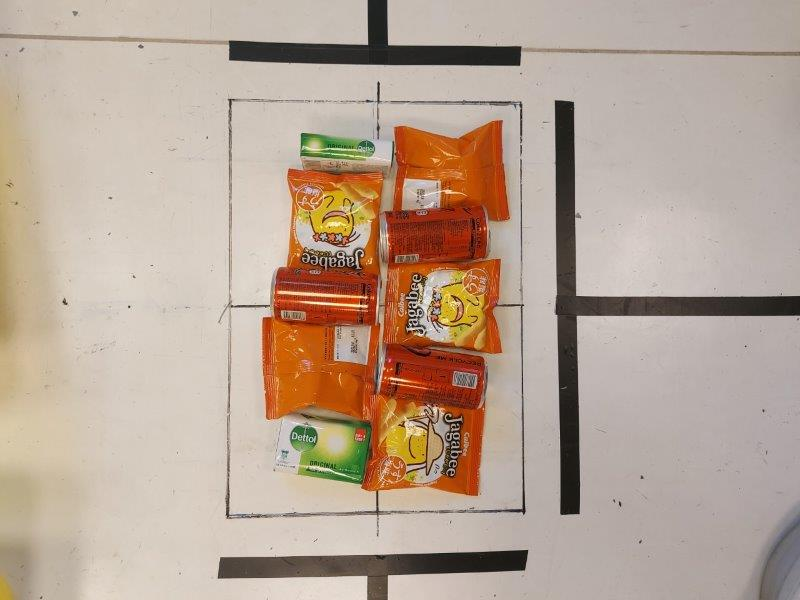Coke: (376, 345, 487, 409), (270, 266, 379, 326), (380, 206, 490, 265)
Dettol: (273, 412, 372, 485), (300, 131, 394, 171)
Jagabee: (361, 395, 485, 497), (262, 319, 380, 420), (393, 121, 508, 224), (287, 168, 383, 285), (384, 259, 502, 354)
